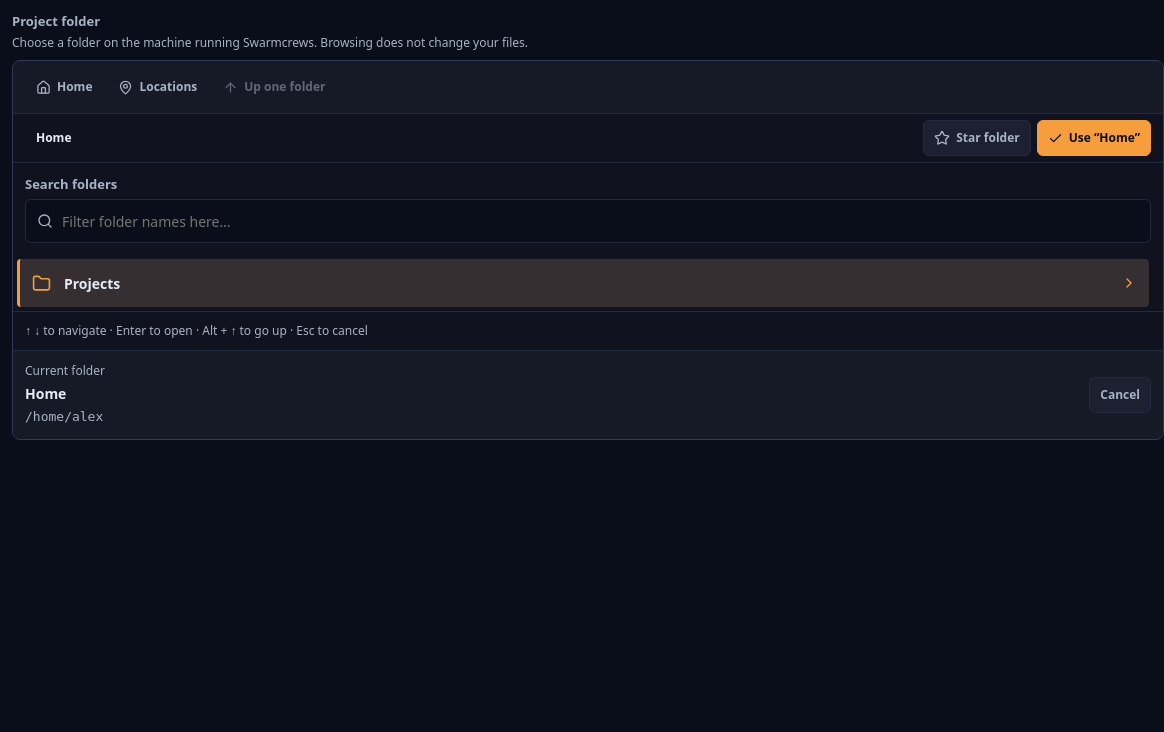
starred browsing locations › provides configured roots and closes Locations with Escape without cancelling the chooser
Expected: the option "Projects" is shown, x1=17 y1=259 x2=1149 y2=307
Step 1. Click the button "Locations" → (158,87), box x1=108 y1=69 x2=208 y2=105
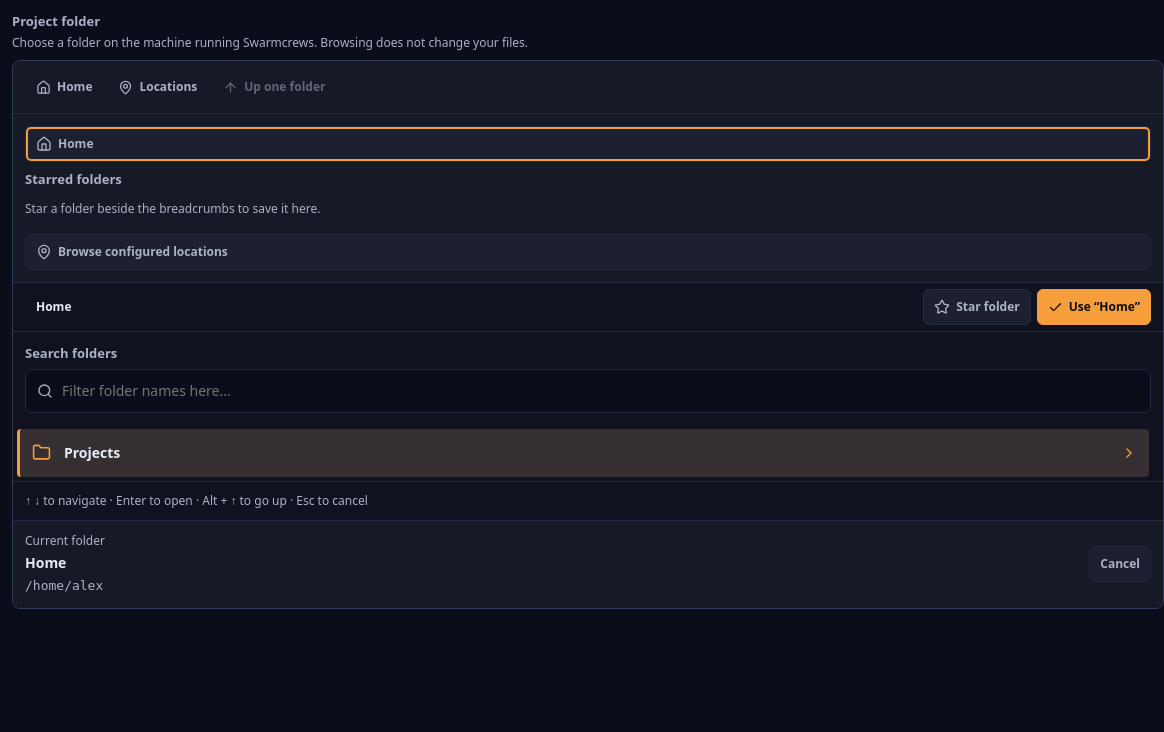
Step 2. Press Escape in the 2nd button "Home", box x1=25 y1=126 x2=1151 y2=162
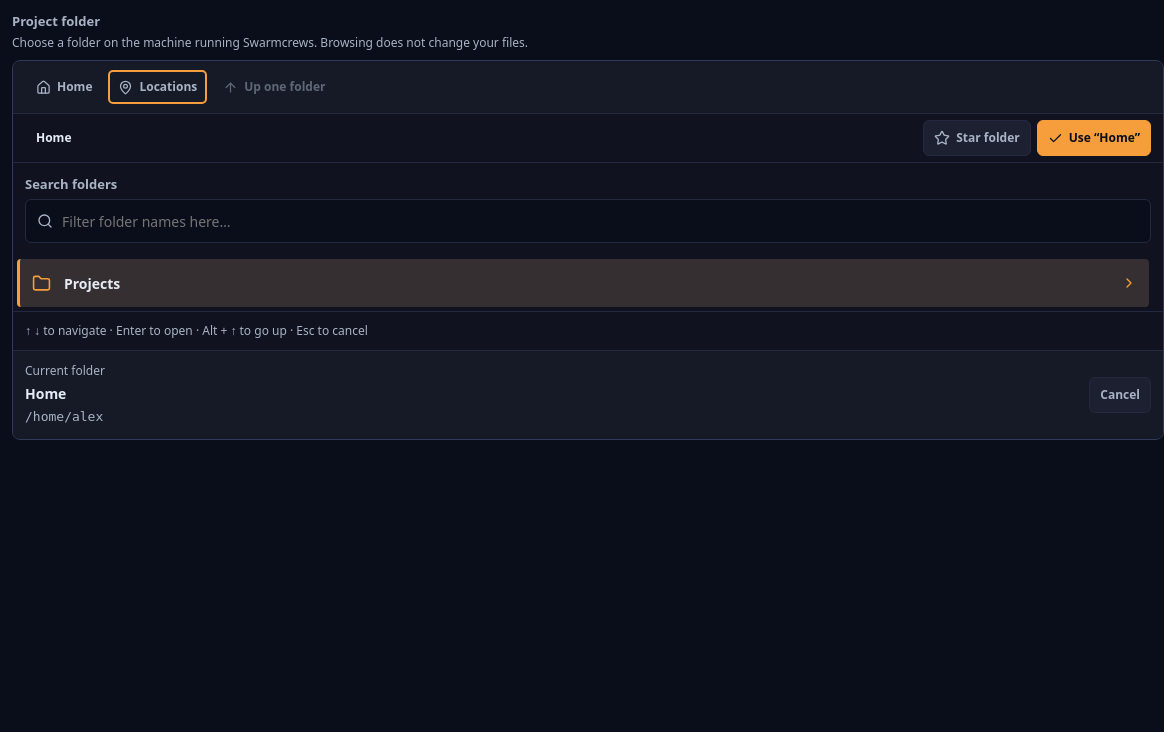
Expected: the dropdown is shown, x1=25 y1=199 x2=1151 y2=243
Step 3. Click the button "Locations" → (158,87), box x1=108 y1=69 x2=208 y2=105
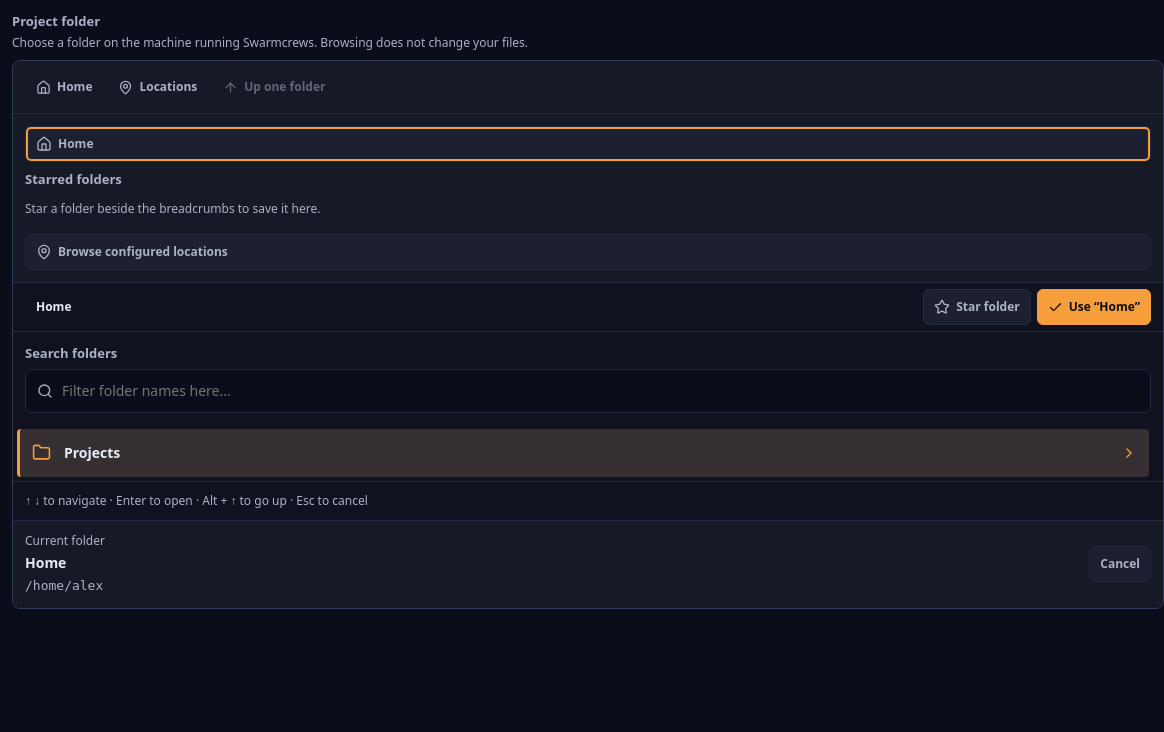
Step 4. Click the button "Browse configured locations" → (143,251), box x1=25 y1=234 x2=1151 y2=270
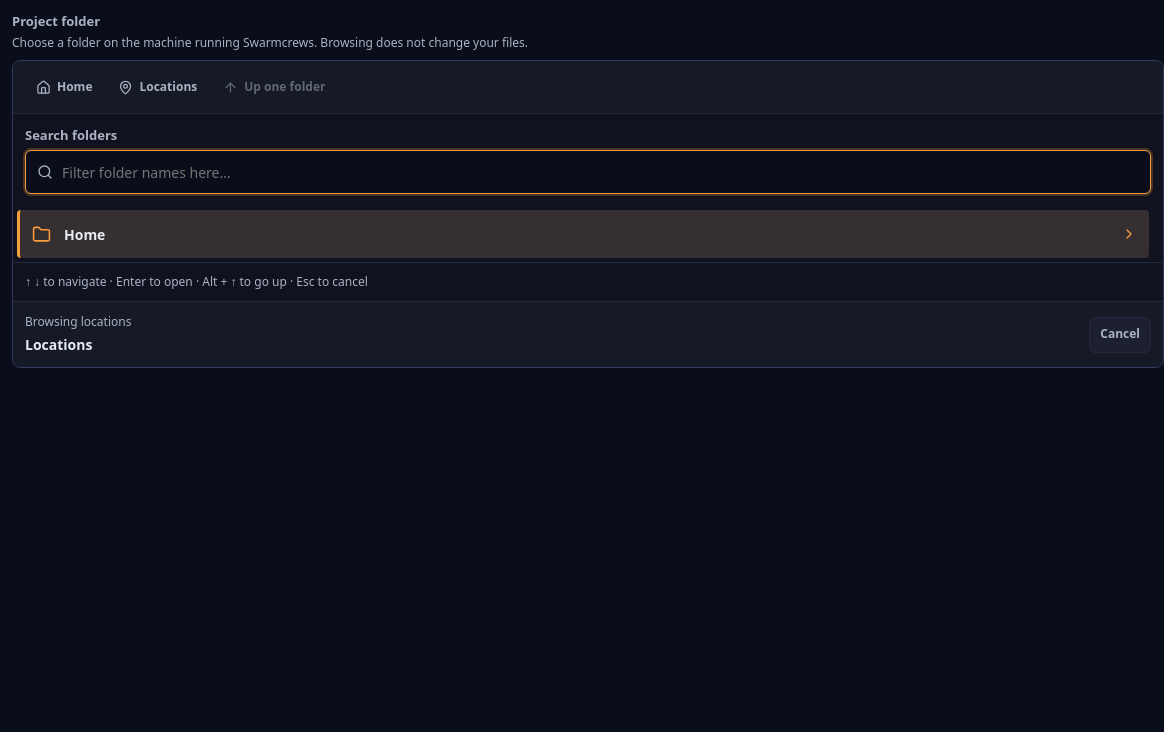
Expected: the option "Home" is shown, x1=17 y1=210 x2=1149 y2=258
